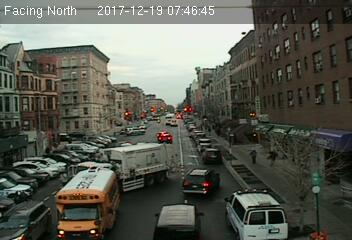car: (181, 168, 220, 195), (201, 147, 222, 163), (156, 132, 173, 145)
pedestrian: (250, 145, 259, 168)
police: (222, 188, 294, 240)
truck: (52, 164, 121, 240), (91, 144, 178, 184)
